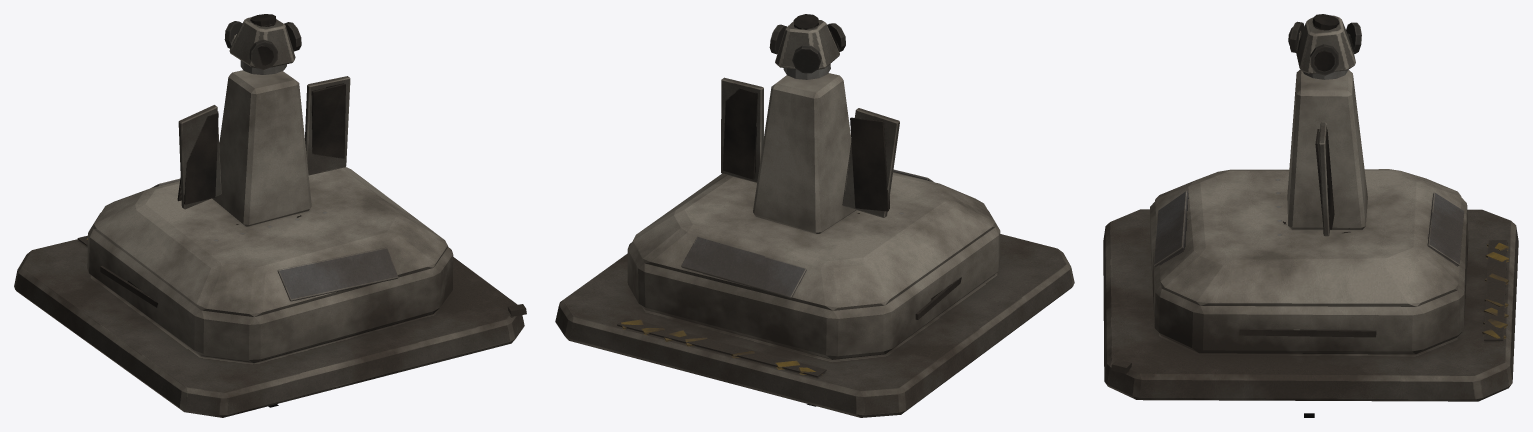
File: ord_curtain_wreck.fbx
3 renders of one model, left to right at view 1: azimuth 30°, elevation 25°; view 2: azimuth 150°, elevation 25°; view 3: azimuth 270°, elevation 25°, orthographic. The views are drawn at different scales.
Parts seen in each view (by area): view 1: base_bar, tip_bar; view 2: base_bar, tip_bar; view 3: base_bar, tip_bar.
Part boxes in pixels (x1,y1,x2,y2): base_bar: (14,60,526,417); tip_bar: (224,14,301,69); base_bar: (555,64,1074,417); tip_bar: (769,14,845,73); base_bar: (1103,69,1518,401); tip_bar: (1288,14,1361,75).
Bounding box in the file's own units: 770 × 815 × 771.
Materials: 2 (2 with a texture image).
